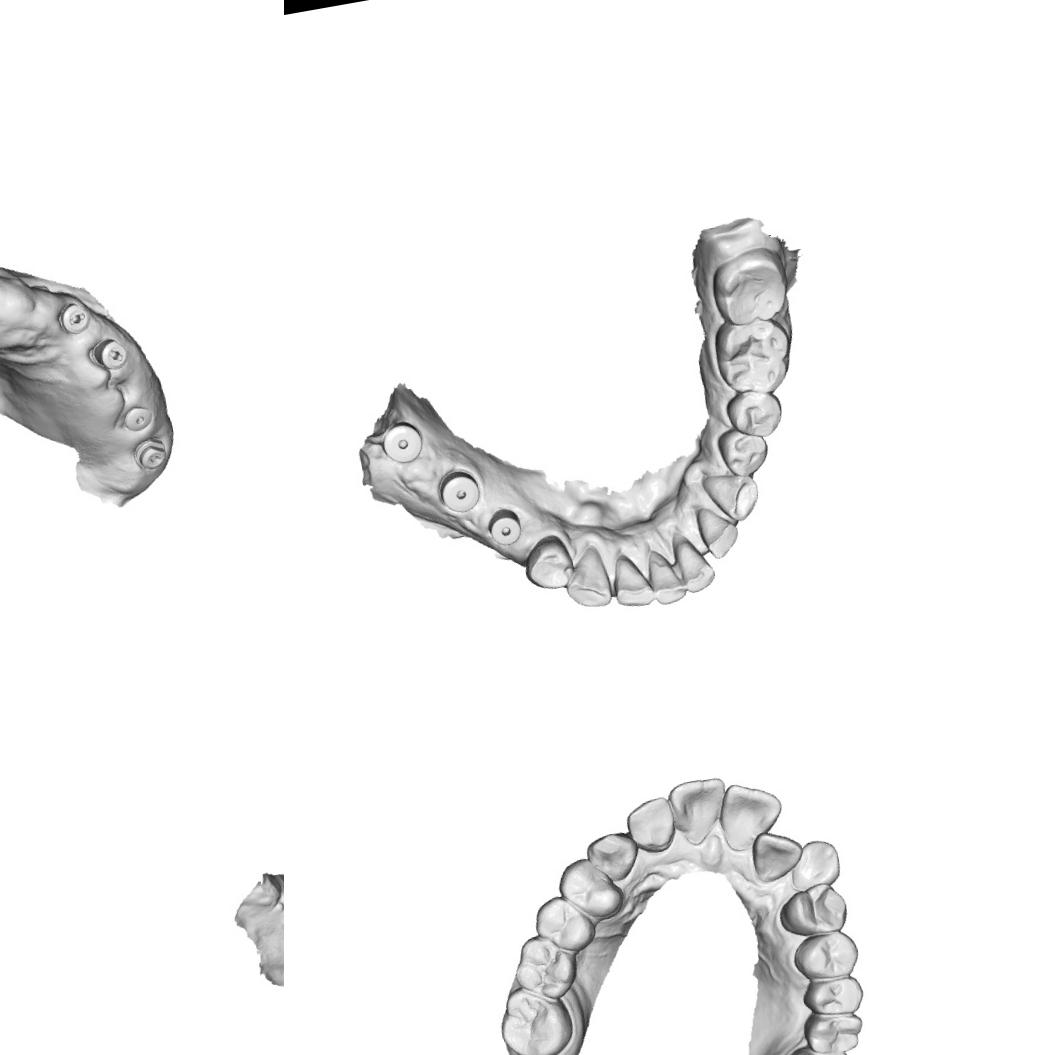canine: (556, 542, 616, 612), (580, 822, 644, 886), (700, 465, 764, 528), (782, 834, 845, 894)
implant: (376, 416, 426, 468), (435, 465, 485, 516), (482, 504, 525, 549), (128, 432, 170, 474), (118, 400, 156, 434)
implant_minus: (83, 334, 130, 375), (52, 298, 94, 338)
incisor: (711, 774, 790, 856), (664, 772, 736, 848), (745, 822, 808, 884), (620, 793, 680, 856), (668, 528, 719, 595), (606, 548, 658, 610), (692, 502, 744, 562), (642, 544, 690, 607)
molar: (708, 307, 798, 402), (705, 242, 794, 331), (492, 977, 578, 1055), (504, 926, 583, 1007), (800, 969, 868, 1021), (800, 1005, 869, 1055), (768, 1034, 864, 1055)
premolar: (550, 850, 629, 926), (526, 888, 600, 960), (774, 876, 852, 942), (788, 925, 864, 984), (723, 383, 787, 444), (516, 530, 576, 594), (712, 421, 772, 482)
